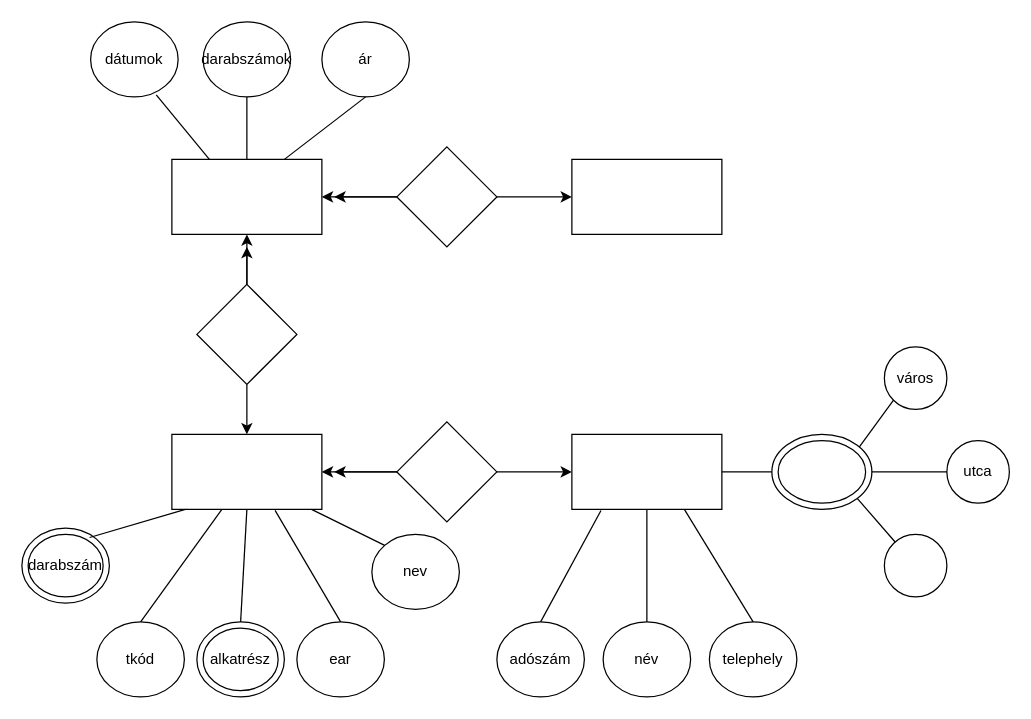
The diagram is 1031 pixels wide and 719 high, and some of its shapes have lost their labels. The centre of each missing label's shape, as x and y in pixels:
Gyártók: point (646, 471)
hsz: point (915, 565)
postai cím: point (821, 471)
Rendelés: point (246, 196)
Termékek: point (246, 471)
Vevő: point (646, 196)
